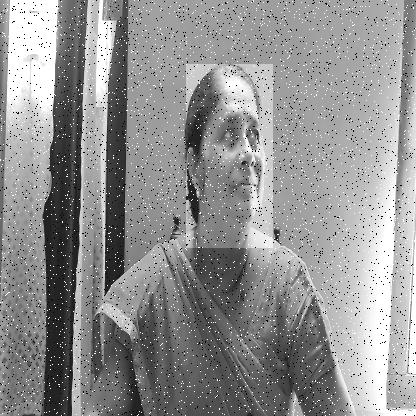Distracted: (186, 64, 273, 248)
